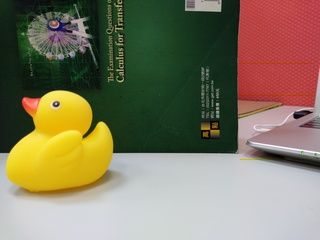duck: (1, 89, 118, 200)
